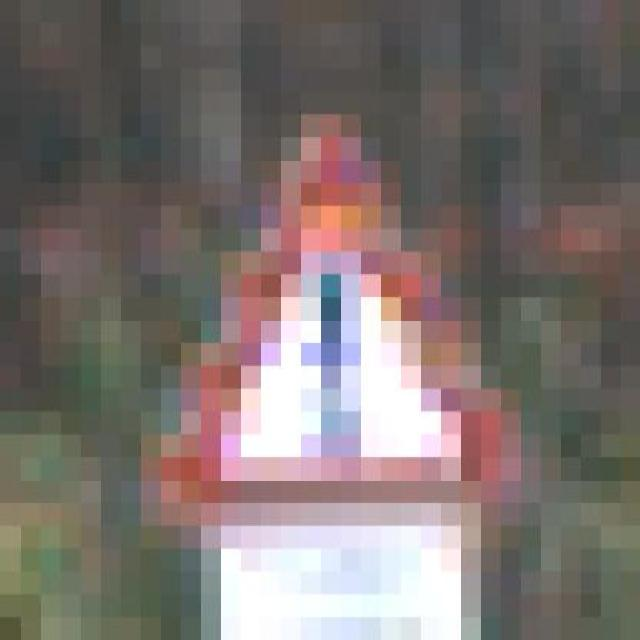Attention Please-: (114, 101, 514, 514)
